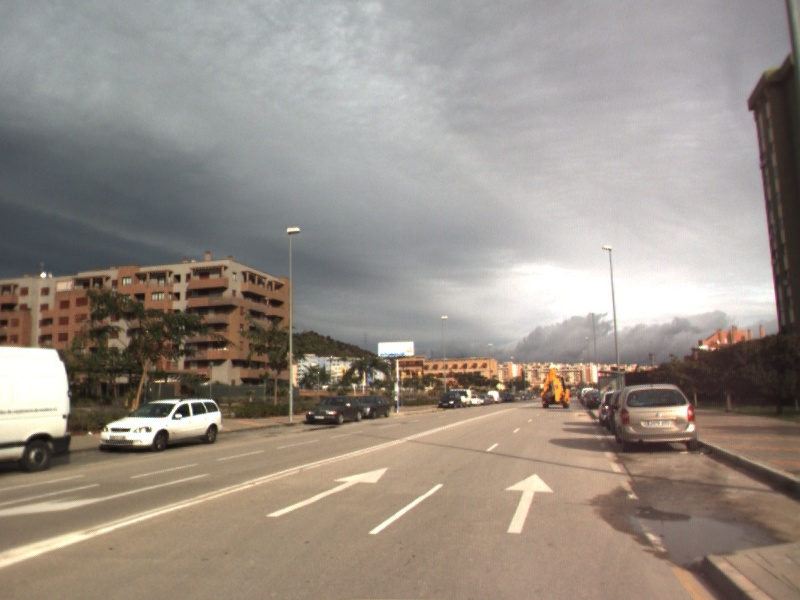STRAIGHT: (264, 466, 390, 519), (502, 471, 556, 535)
